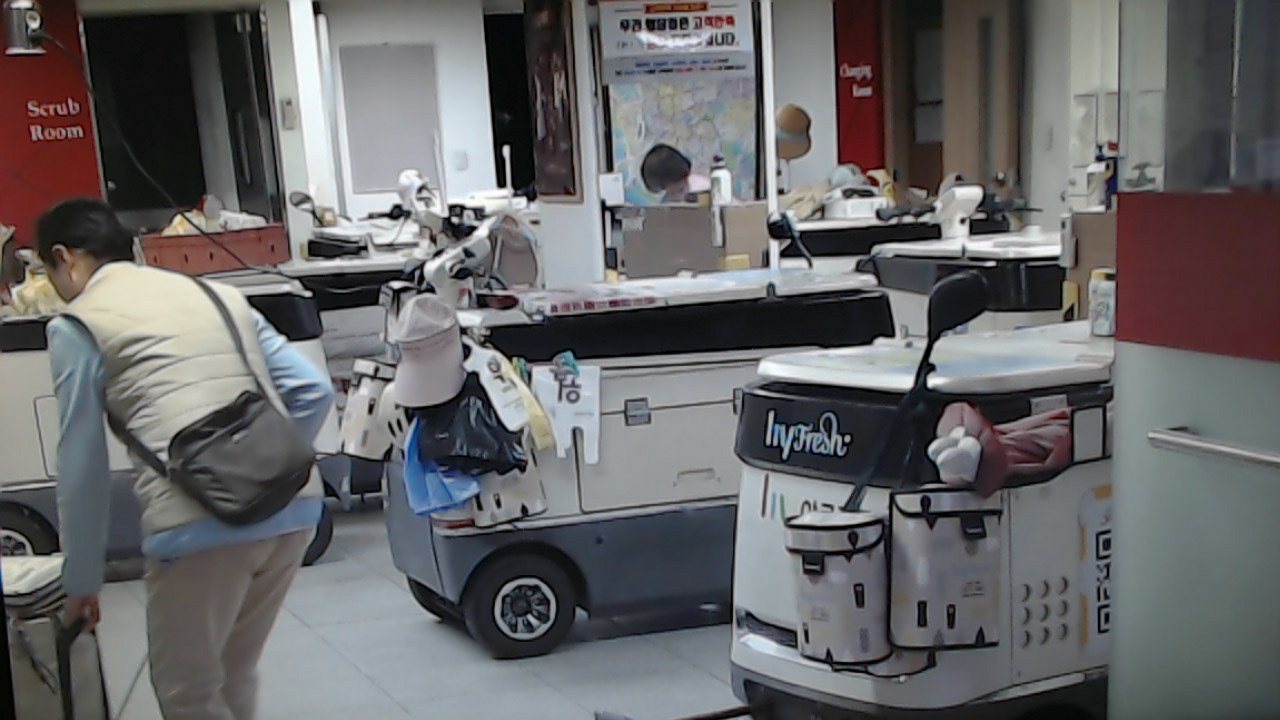Yakurut: (28, 193, 354, 720)
